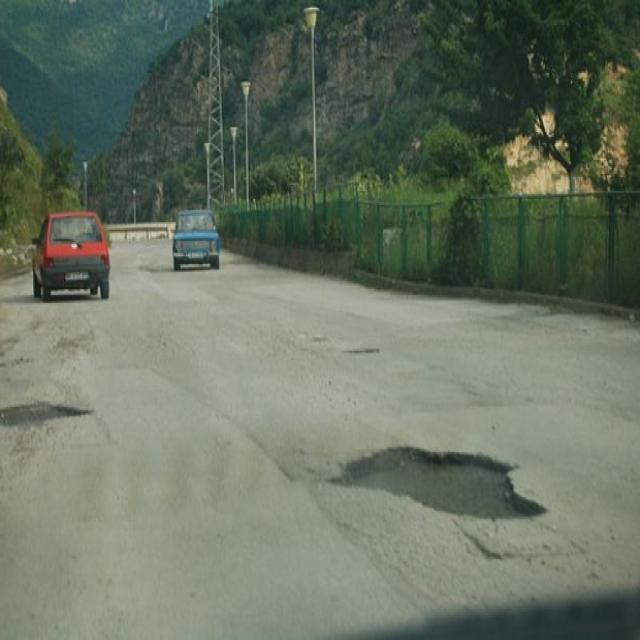pothole: (330, 435, 554, 522)
